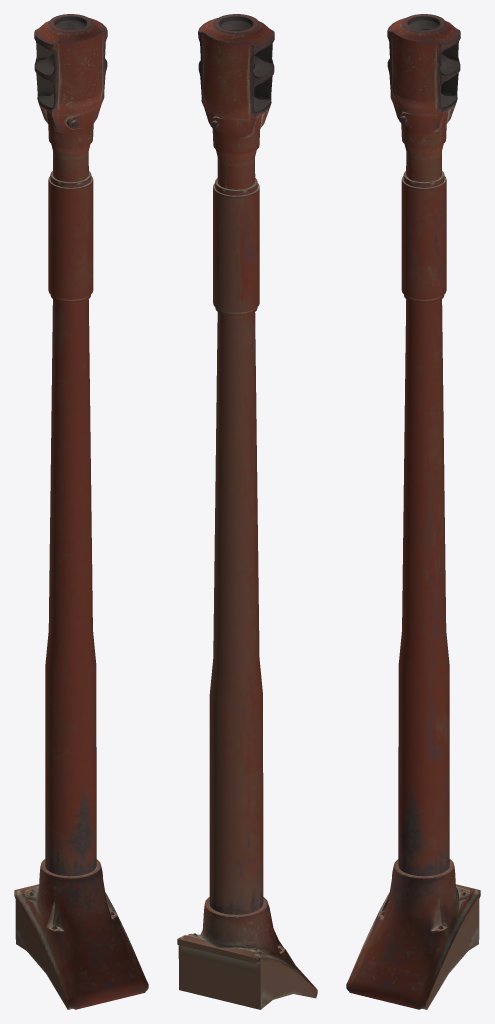
Rendered from Gun_01.glb.
The picture shows the model from 3 angles, left to right: view 1: azimuth 30°, elevation 25°; view 2: azimuth 150°, elevation 25°; view 3: azimuth 330°, elevation 25°; orthographic projection. The views are drawn at different scales.
Visible parts, largest first — view 1: set_0_group_0; view 2: set_0_group_0; view 3: set_0_group_0.
Part boxes in pixels (x1,y1,x2,y2): set_0_group_0: (14, 14, 148, 1009); set_0_group_0: (177, 14, 317, 1009); set_0_group_0: (346, 14, 480, 1009).
Size of the model in its own units: 0.4962 by 5.67 by 0.6308.
Materials: 1 (1 with a texture image).
